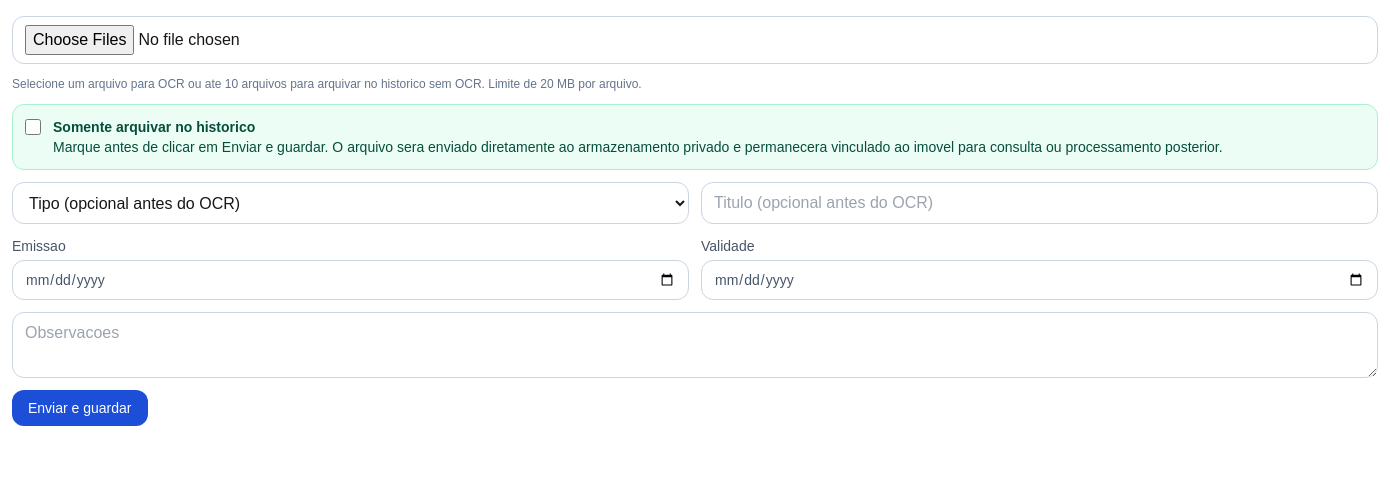
Test: PropertyDocumentUploadForm › mostra erro visível quando o arquivamento é enviado sem arquivo
The image size is (1390, 493).
Click the checkbox labelled "Somente arquivar" at (33, 127), box [25, 119, 41, 135]
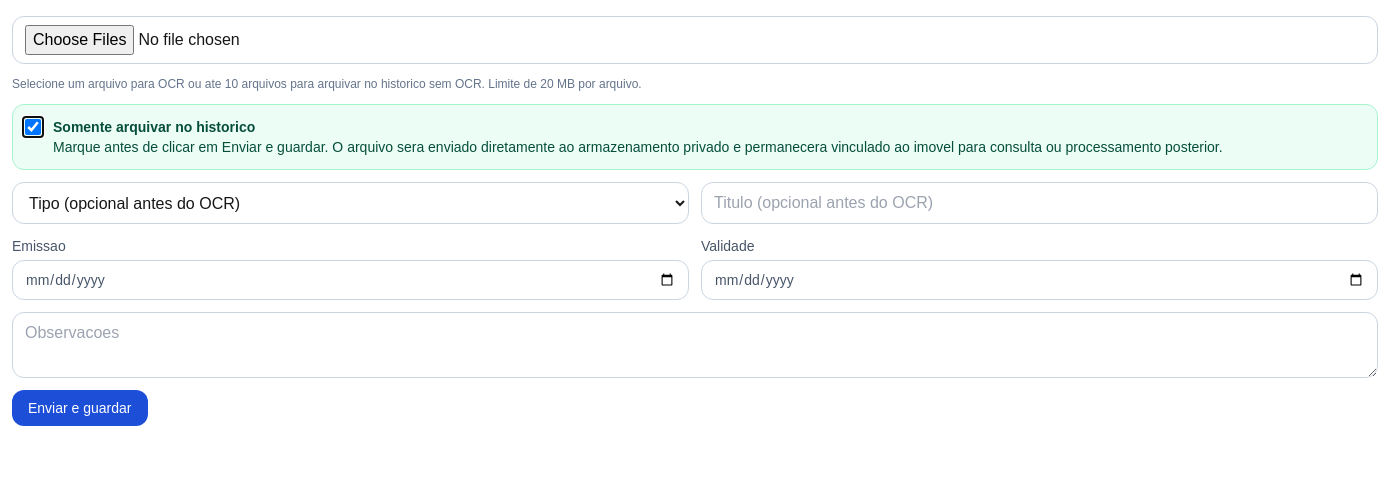
Submit the form named "enviar e guardar"
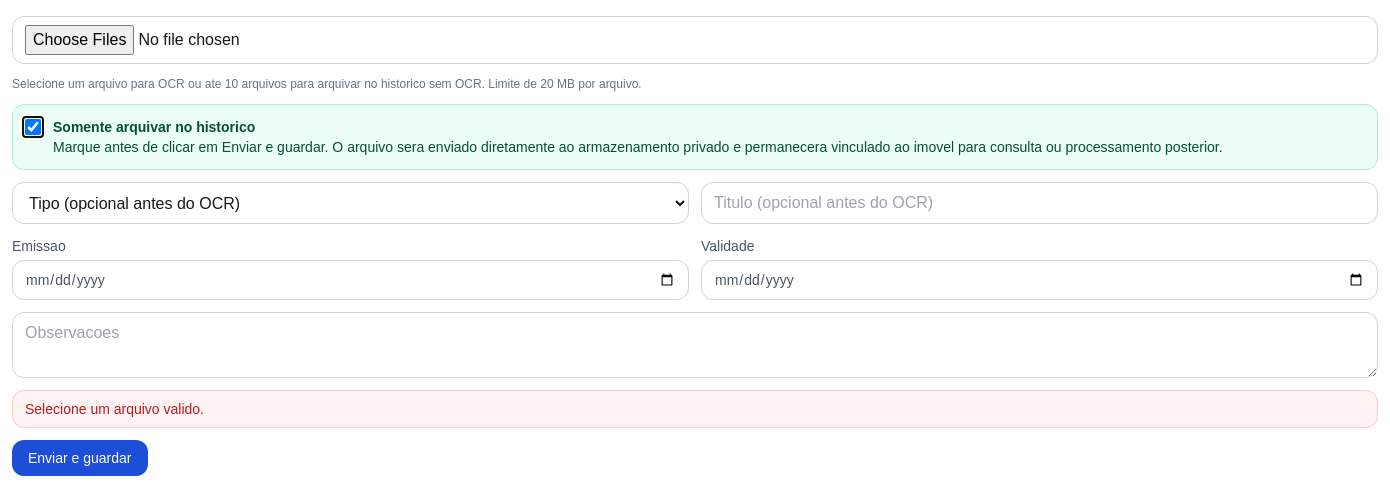
Result: the message reads "Selecione um arquivo valido." at [25, 401, 204, 417]
